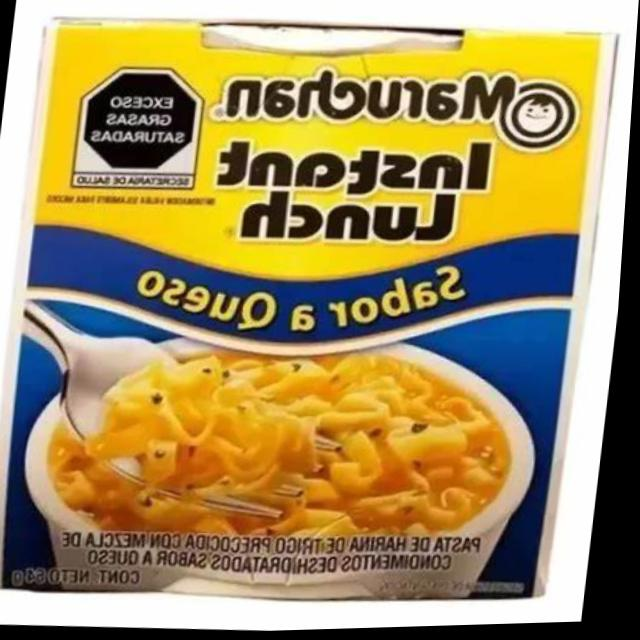Caja: (0, 0, 636, 631)
